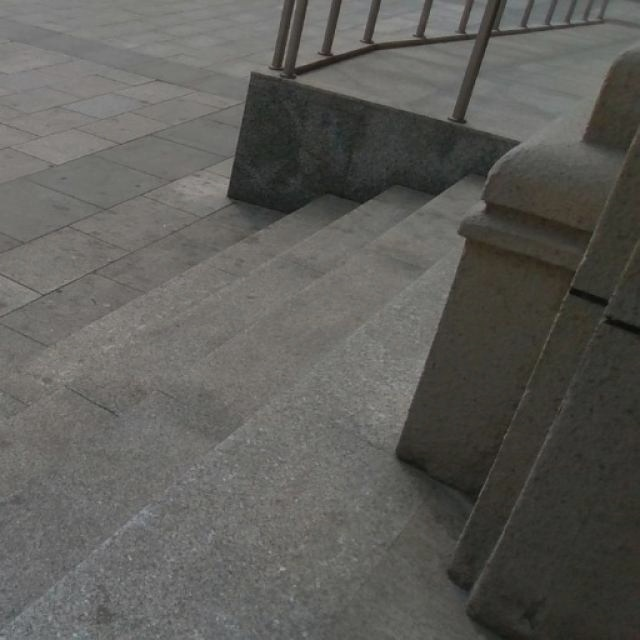stair: (0, 181, 419, 594)
